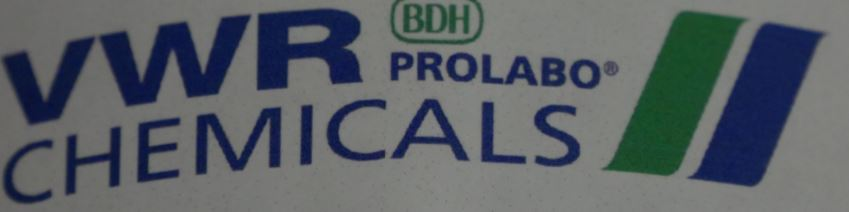VWR: (1, 1, 830, 209)
